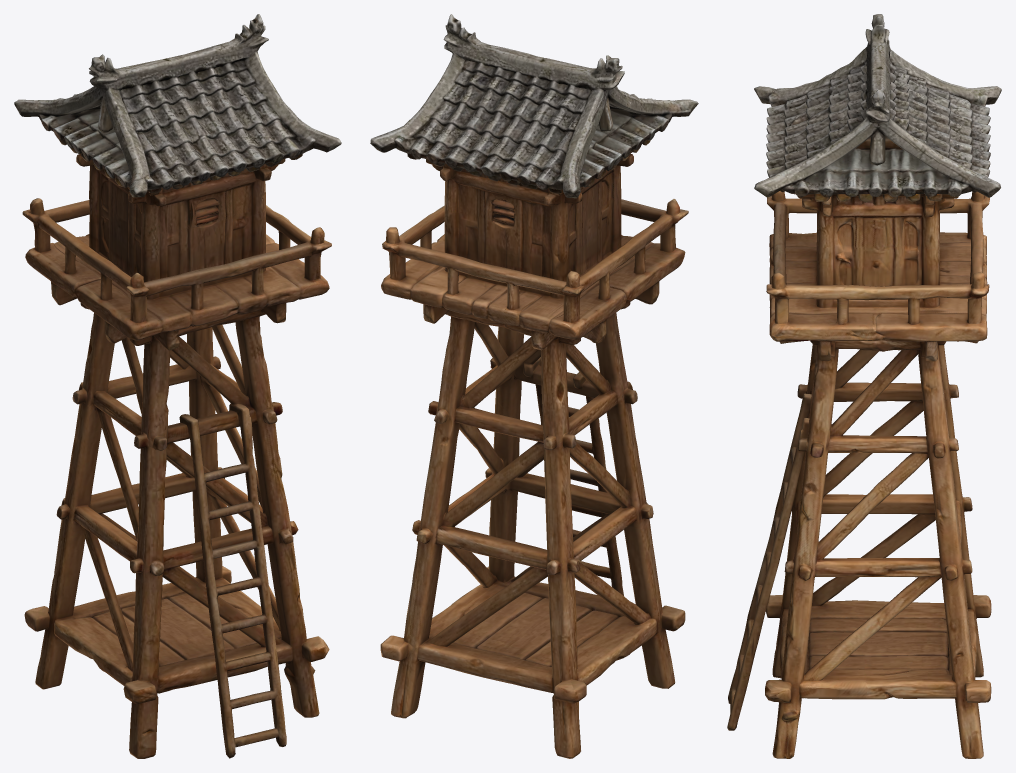
File: watchtower-high.glb
The picture shows the model from 3 angles, left to right: view 1: azimuth 30°, elevation 25°; view 2: azimuth 150°, elevation 25°; view 3: azimuth 270°, elevation 25°; orthographic projection.
Bounding box in the file's own units: 0.3254 × 0.999 × 0.3738.
1 material, 1 textured.
